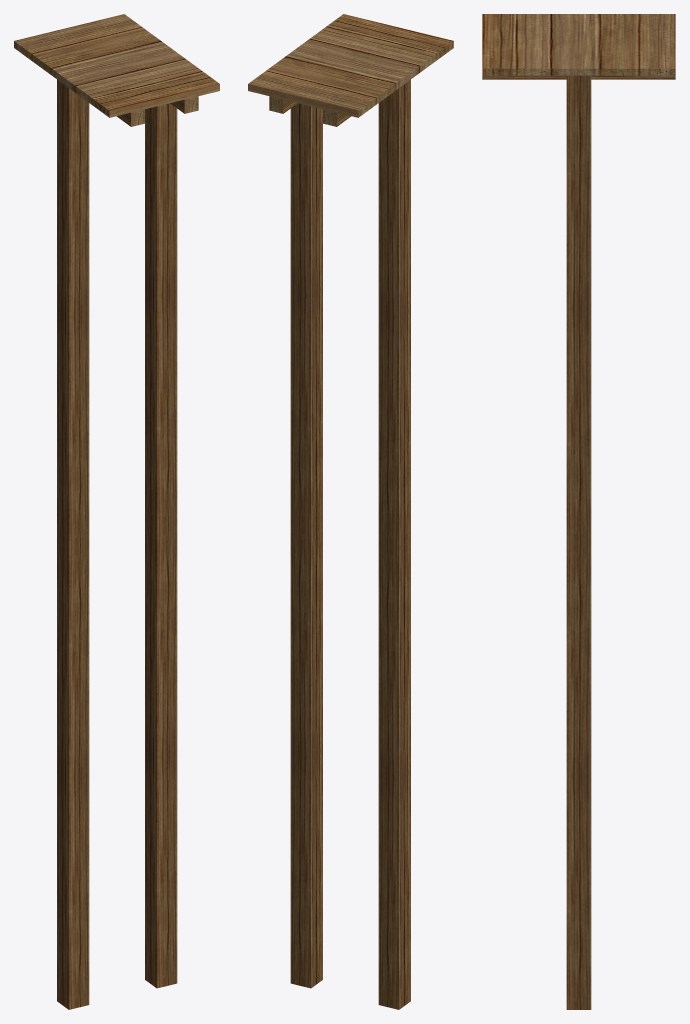
File: Low_BridgeWoodRoad01.FBX
The picture shows the model from 3 angles, left to right: view 1: azimuth 30°, elevation 25°; view 2: azimuth 150°, elevation 25°; view 3: azimuth 270°, elevation 25°; orthographic projection.
Parts seen in each view (by area): view 1: poles, Low_BridgeWoodRoad01; view 2: poles, Low_BridgeWoodRoad01; view 3: poles, Low_BridgeWoodRoad01.
Part boxes in pixels (x1,y1,x2,y2): poles: [57, 79, 177, 1009]; Low_BridgeWoodRoad01: [14, 14, 219, 126]; poles: [290, 79, 410, 1009]; Low_BridgeWoodRoad01: [248, 14, 453, 126]; poles: [566, 75, 591, 1009]; Low_BridgeWoodRoad01: [482, 14, 675, 79].
Size of the model in its own units: 184 by 1479 by 276.
